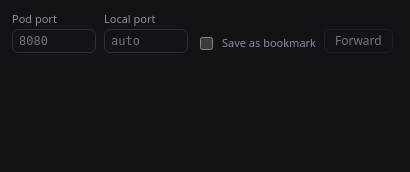
Test: PortForward UI and Store (Task R-09) › rejects invalid ports and shows backend errors
Type "99999" into the field labelled "Pod port". click: (54,41)
box: x1=12 y1=29 x2=96 y2=53
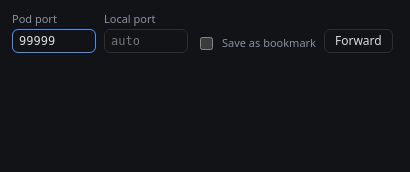
Click the button "Forward". click: (358,41)
box: x1=324 y1=29 x2=393 y2=53
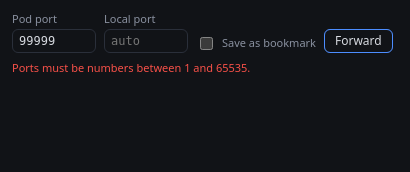
Result: the message shows "between 1 and 65535" at x1=12 y1=60 x2=250 y2=75
Replace the text in the field labelled "Pod port" with "80". click: (54,41)
box: x1=12 y1=29 x2=96 y2=53
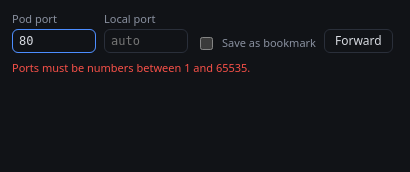
Type "8080" into the field labelled "Local port". click: (146,41)
box: x1=104 y1=29 x2=188 y2=53
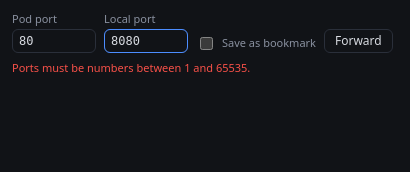
Click the button "Forward". click: (358,41)
box: x1=324 y1=29 x2=393 y2=53
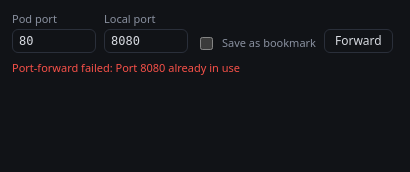
Result: the message reads "Port-forward failed: Port 8080 already in use" at x1=12 y1=60 x2=240 y2=75
